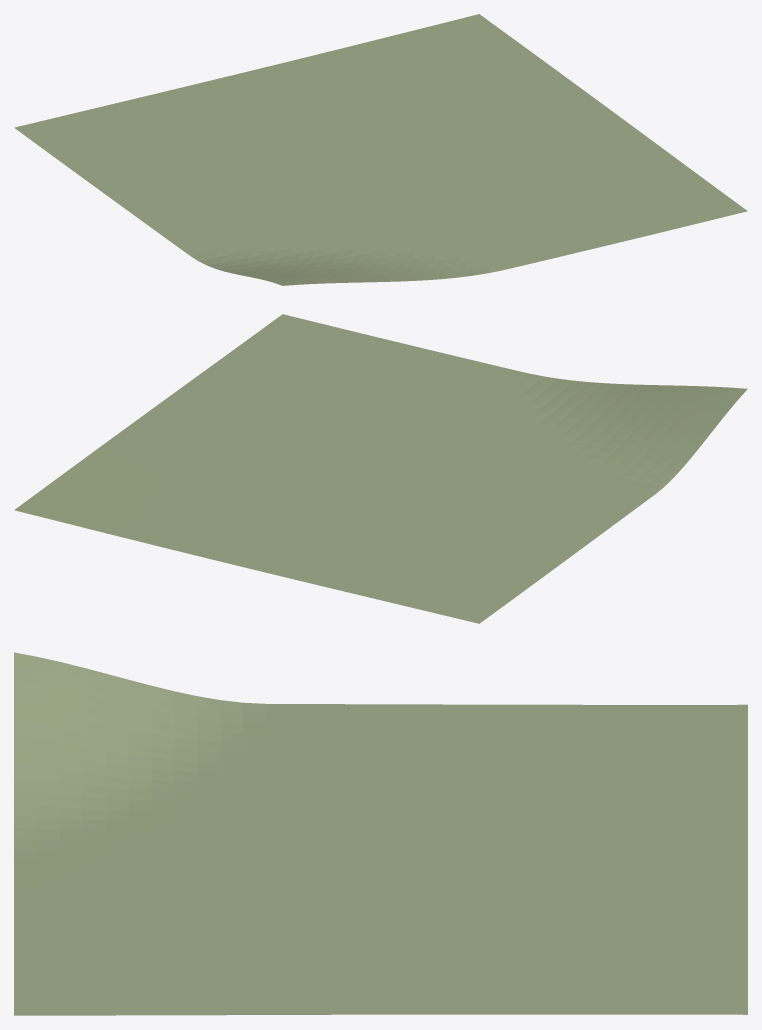
File: desert-25-20.glb
3 views of the same model, one above another, from view 1: azimuth 30°, elevation 25°; view 2: azimuth 150°, elevation 25°; view 3: azimuth 270°, elevation 25° (orthographic). The views are drawn at different scales.
Visible parts, largest first — view 1: desert-25-20; view 2: desert-25-20; view 3: desert-25-20.
Part boxes in pixels (x1,y1,x2,y2): desert-25-20: (14, 14, 747, 285); desert-25-20: (14, 314, 747, 623); desert-25-20: (14, 652, 747, 1015).
Bounding box in the file's own units: 512 × 41.3 × 512.
